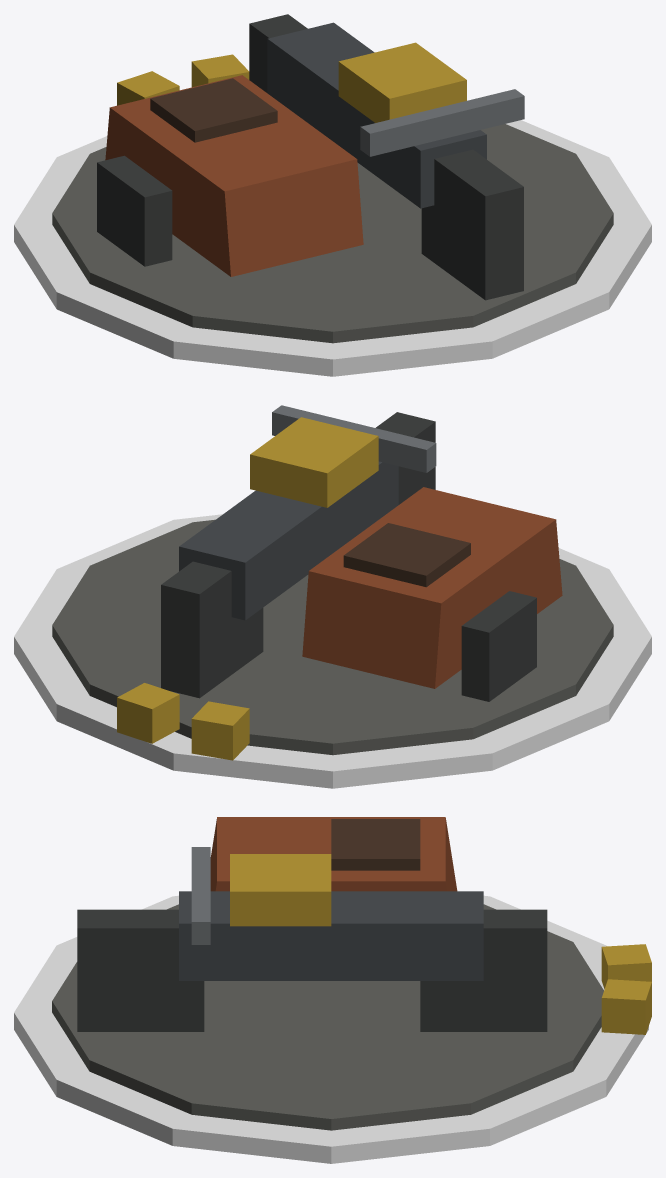
Rendered from vehicle_token_t2.glb.
3 views of the same model, one above another, from view 1: azimuth 30°, elevation 25°; view 2: azimuth 150°, elevation 25°; view 3: azimuth 270°, elevation 25° (orthographic).
Visible parts, largest first — view 1: vehicle_token_t2; view 2: vehicle_token_t2; view 3: vehicle_token_t2.
Part boxes in pixels (x1=…): vehicle_token_t2: x1=14, y1=14, x2=651, y2=376; vehicle_token_t2: x1=14, y1=405, x2=651, y2=788; vehicle_token_t2: x1=14, y1=817, x2=651, y2=1163.
Bounding box in the file's own units: 1 × 0.31 × 1.
